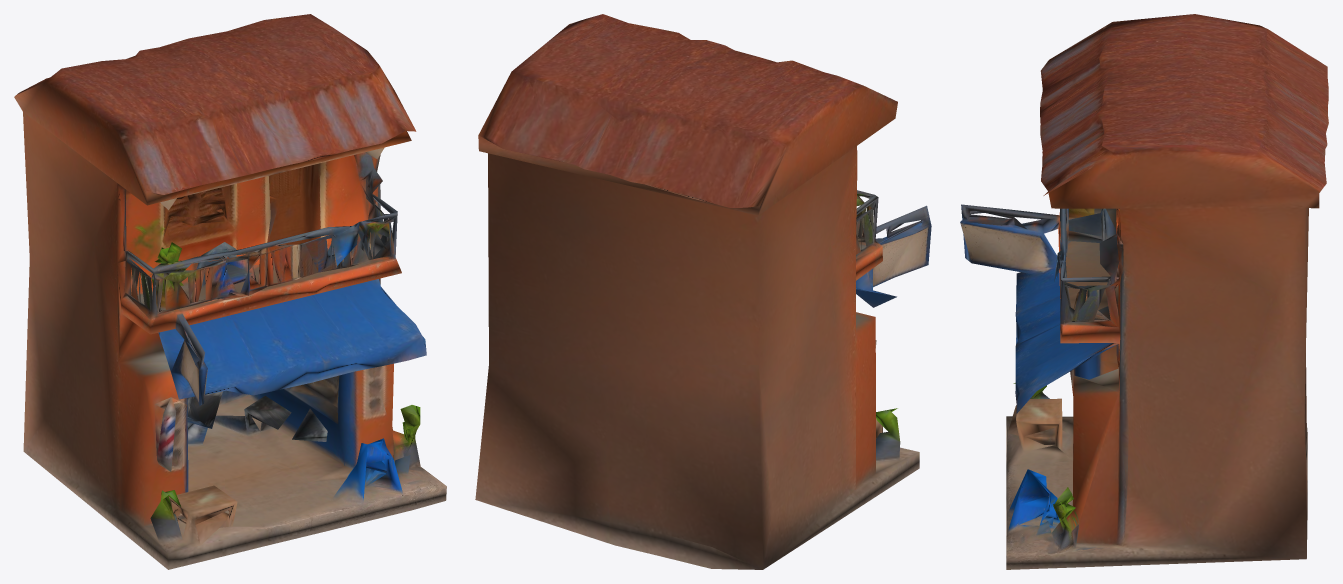
Rendered from building-3.glb.
3 views of the same model, side by side, from view 1: azimuth 30°, elevation 25°; view 2: azimuth 150°, elevation 25°; view 3: azimuth 270°, elevation 25° (orthographic). The views are drawn at different scales.
Parts seen in each view (by area): view 1: tripo_node_ebfb49a2-a911-472e-a9af-aa5d95e86360; view 2: tripo_node_ebfb49a2-a911-472e-a9af-aa5d95e86360; view 3: tripo_node_ebfb49a2-a911-472e-a9af-aa5d95e86360.
Boxes of the visible parts, x1,y1,x2,y2 form: tripo_node_ebfb49a2-a911-472e-a9af-aa5d95e86360: (14,14,446,569); tripo_node_ebfb49a2-a911-472e-a9af-aa5d95e86360: (475,14,931,569); tripo_node_ebfb49a2-a911-472e-a9af-aa5d95e86360: (960,14,1328,569).
Bounding box in the file's own units: 0.7178 × 1 × 0.7905.
1 material, 1 textured.
